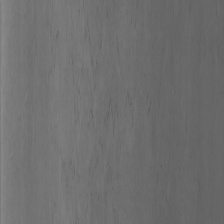silk_spot: (60, 18, 125, 183)
